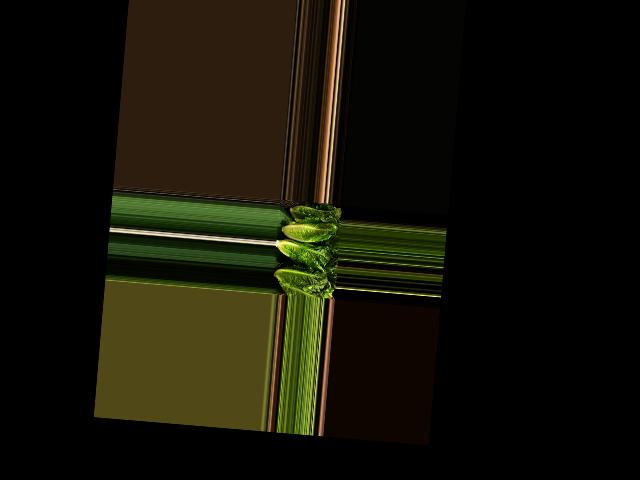lettuce: (290, 204, 342, 223)
